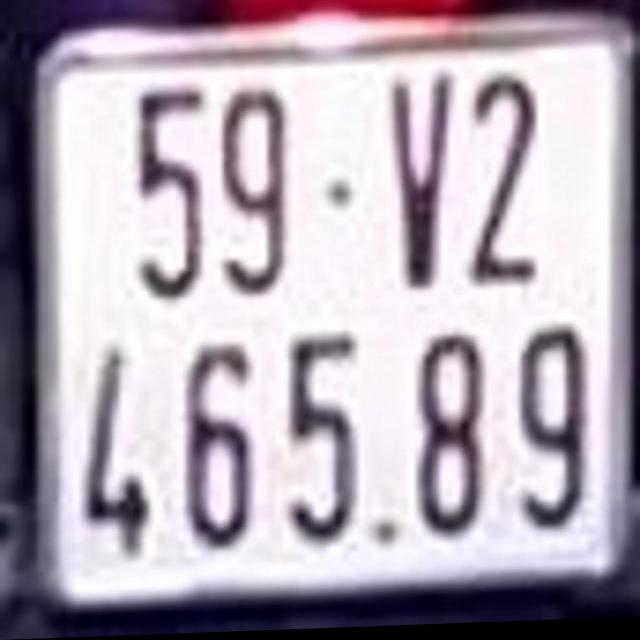2: (471, 74, 540, 287)
5: (134, 91, 214, 302), (293, 335, 366, 536), (86, 357, 152, 557)
6: (184, 339, 252, 544)
8: (419, 339, 478, 541)
9: (514, 326, 586, 531), (222, 93, 290, 294)
V: (384, 78, 456, 297)
